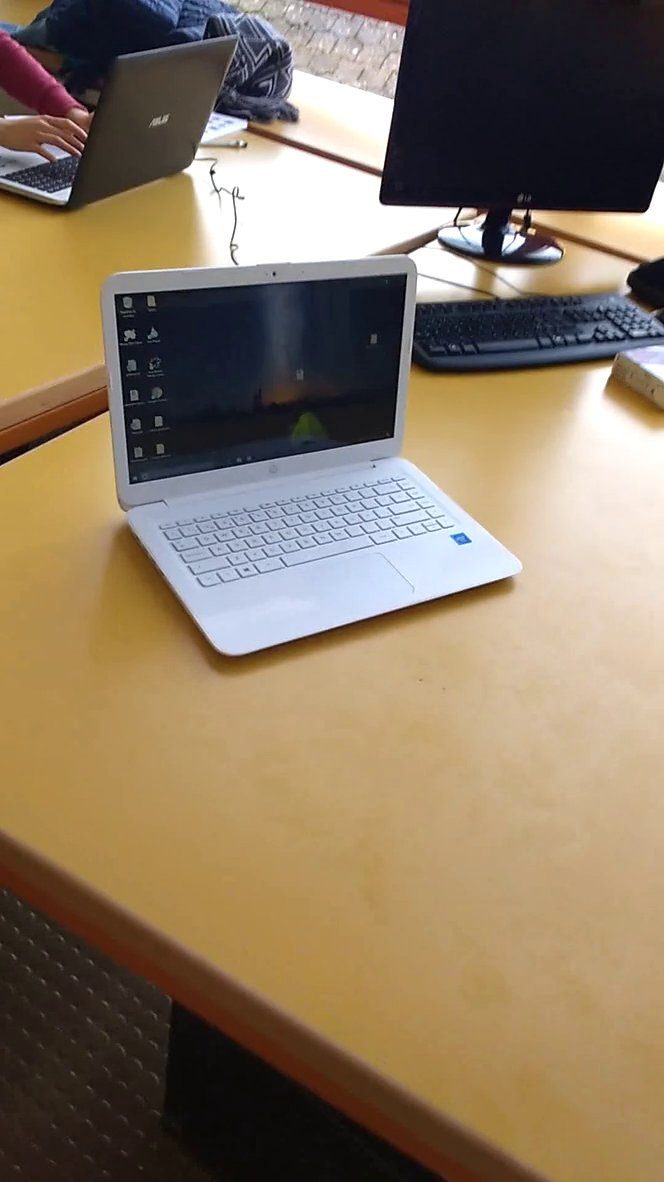laptop: (94, 246, 536, 670), (2, 28, 248, 222)
